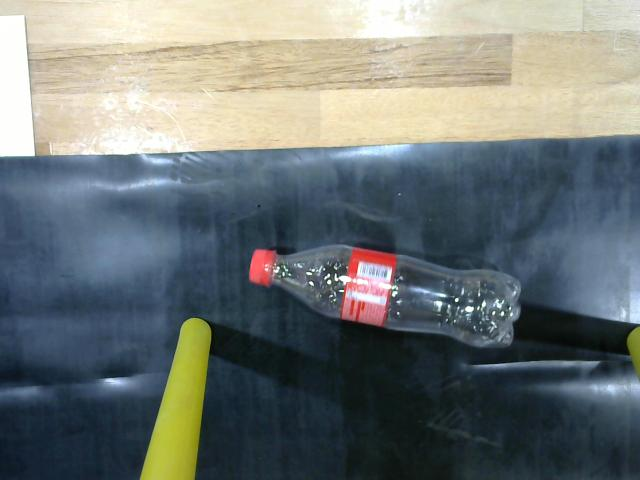bottle: (240, 235, 534, 359)
